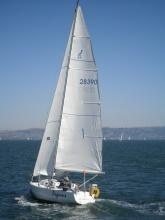fanchuan: (21, 1, 112, 205)
